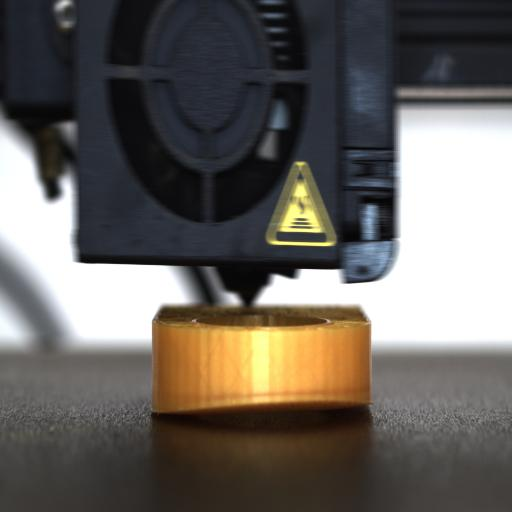warp: (153, 386, 366, 414)
